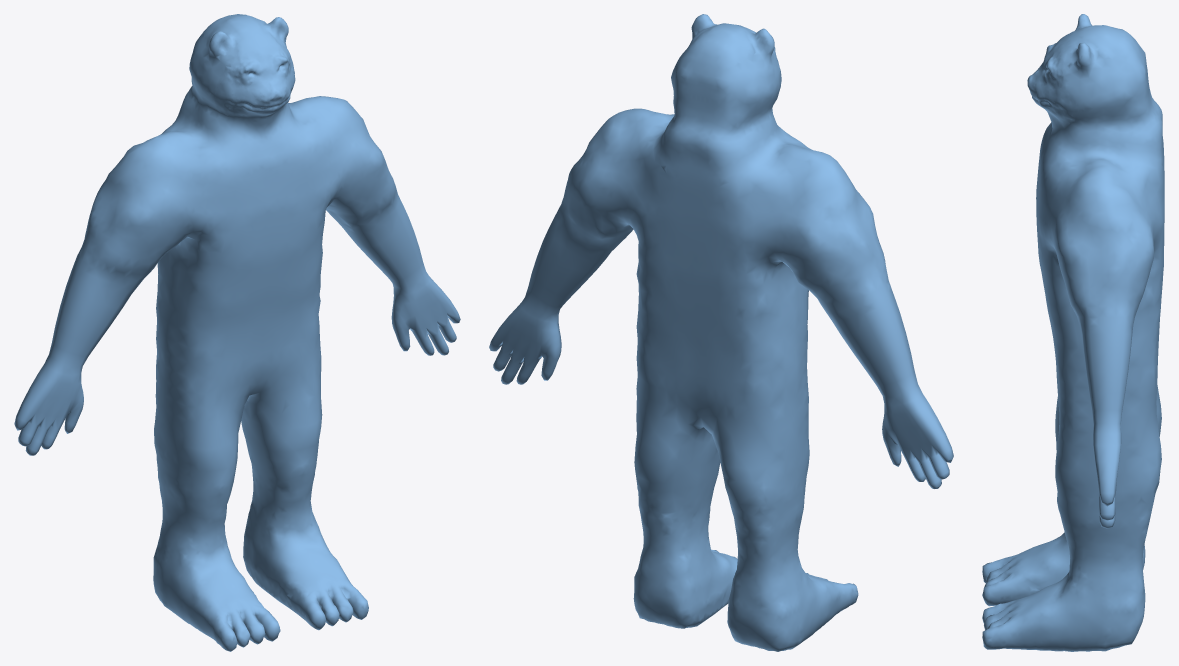
The model's file is MysterySingleMesh.dae.
3 views of the same model, side by side, from view 1: azimuth 30°, elevation 25°; view 2: azimuth 150°, elevation 25°; view 3: azimuth 270°, elevation 25° (orthographic). The views are drawn at different scales.
Visible parts, largest first — view 1: Erron; view 2: Erron; view 3: Erron.
Boxes of the visible parts, <box> form: Erron: <box>14,14,460,651</box>; Erron: <box>489,14,953,651</box>; Erron: <box>982,14,1164,651</box>.
Bounding box in the file's own units: 7.72 × 2.7 × 9.63.
